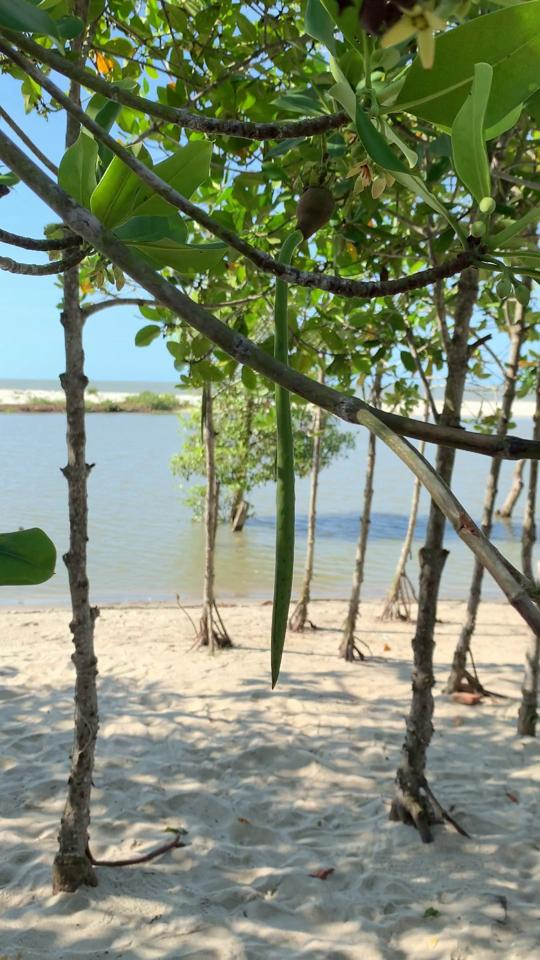setengah matang: (250, 169, 348, 696)
